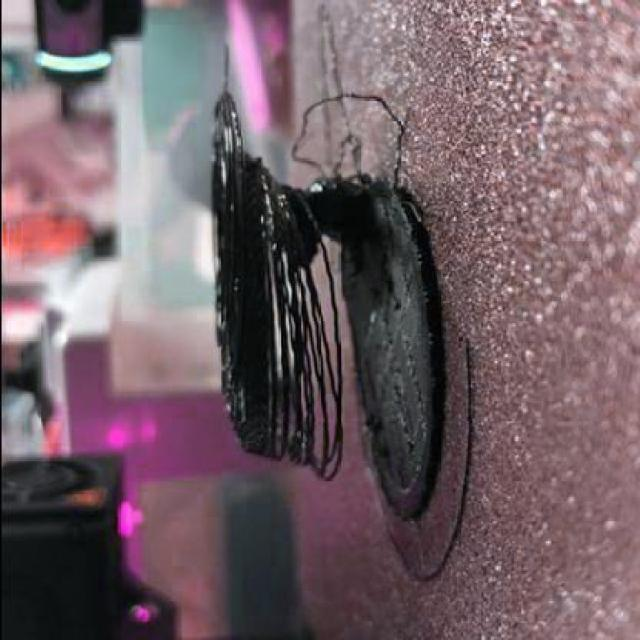spaghetti: (267, 189, 339, 482), (284, 92, 402, 188), (218, 40, 231, 92)
